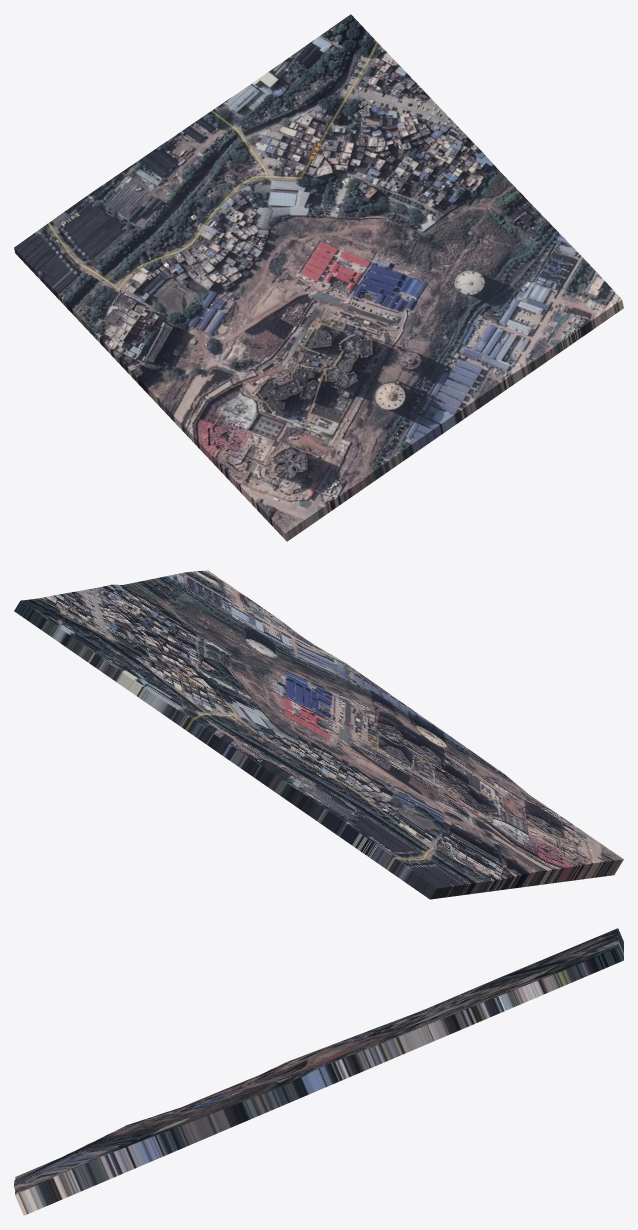
3 renders of one model, top to bottom at view 1: azimuth 30°, elevation 25°; view 2: azimuth 150°, elevation 25°; view 3: azimuth 270°, elevation 25°, orthographic. The views are drawn at different scales.
Parts seen in each view (by area): view 1: 0_21_6; view 2: 0_21_6; view 3: 0_21_6.
Part boxes in pixels (left/top/right/bottom): 0_21_6: left=14, top=14, right=623, bottom=541; 0_21_6: left=14, top=570, right=623, bottom=899; 0_21_6: left=14, top=928, right=623, bottom=1215.
Size of the model in its own units: 597 by 438 by 551.
1 material, 1 textured.
